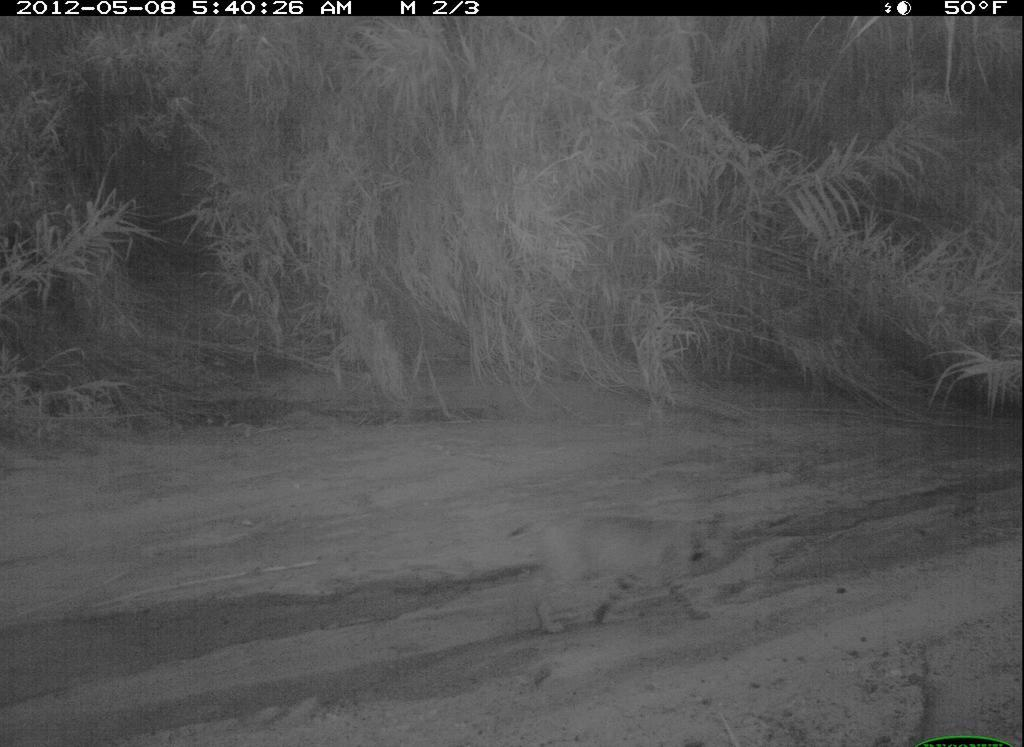bobcat: (506, 478, 737, 653)
